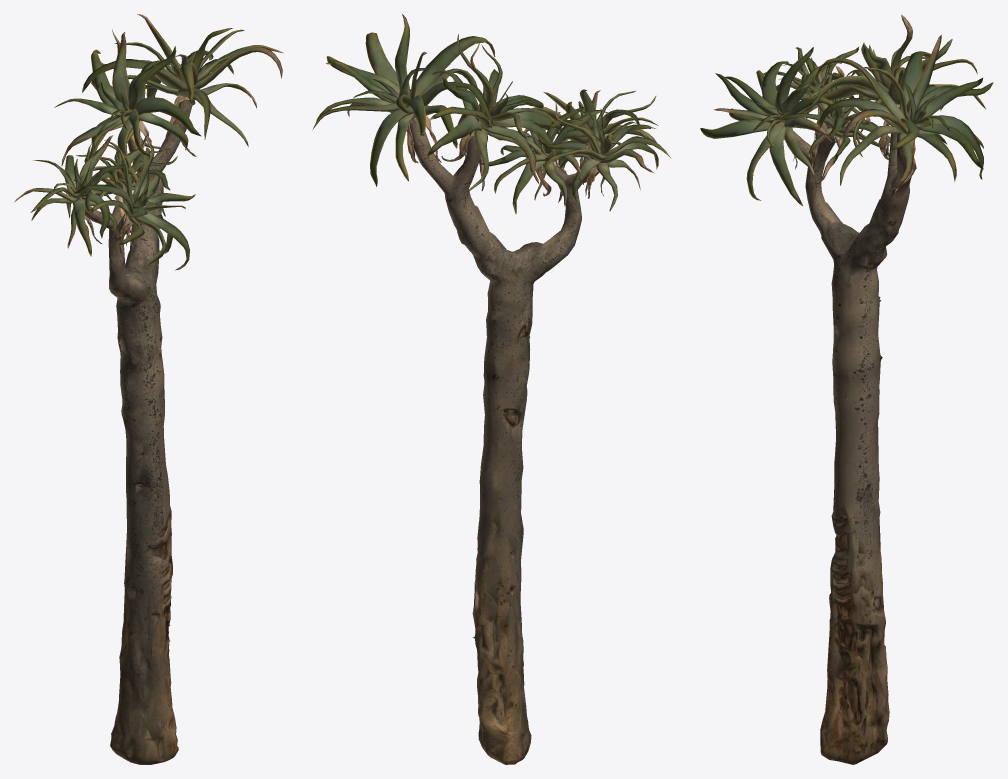
File: quiver_tree_01.glb
3 views of the same model, side by side, from view 1: azimuth 30°, elevation 25°; view 2: azimuth 150°, elevation 25°; view 3: azimuth 270°, elevation 25° (orthographic). The views are drawn at different scales.
Visible parts, largest first — view 1: quiver_tree_01; view 2: quiver_tree_01; view 3: quiver_tree_01.
Part boxes in pixels (<box>): quiver_tree_01: <box>15,14,283,764</box>; quiver_tree_01: <box>312,14,670,764</box>; quiver_tree_01: <box>700,14,993,764</box>.
Size of the model in its own units: 1.18 by 2.72 by 0.9683.
2 materials, 2 textured.
